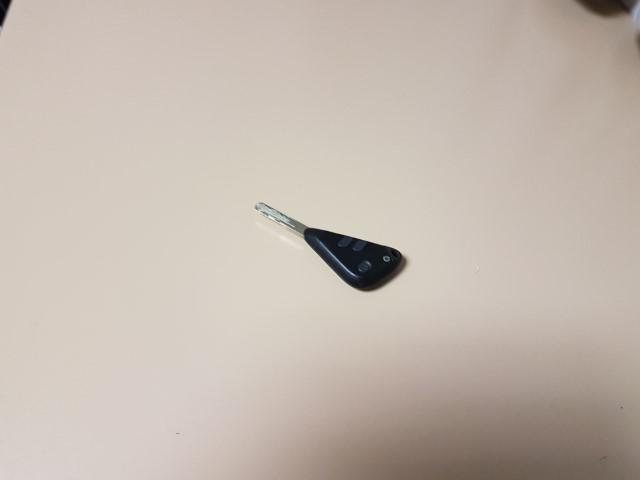key: (255, 201, 403, 290)
